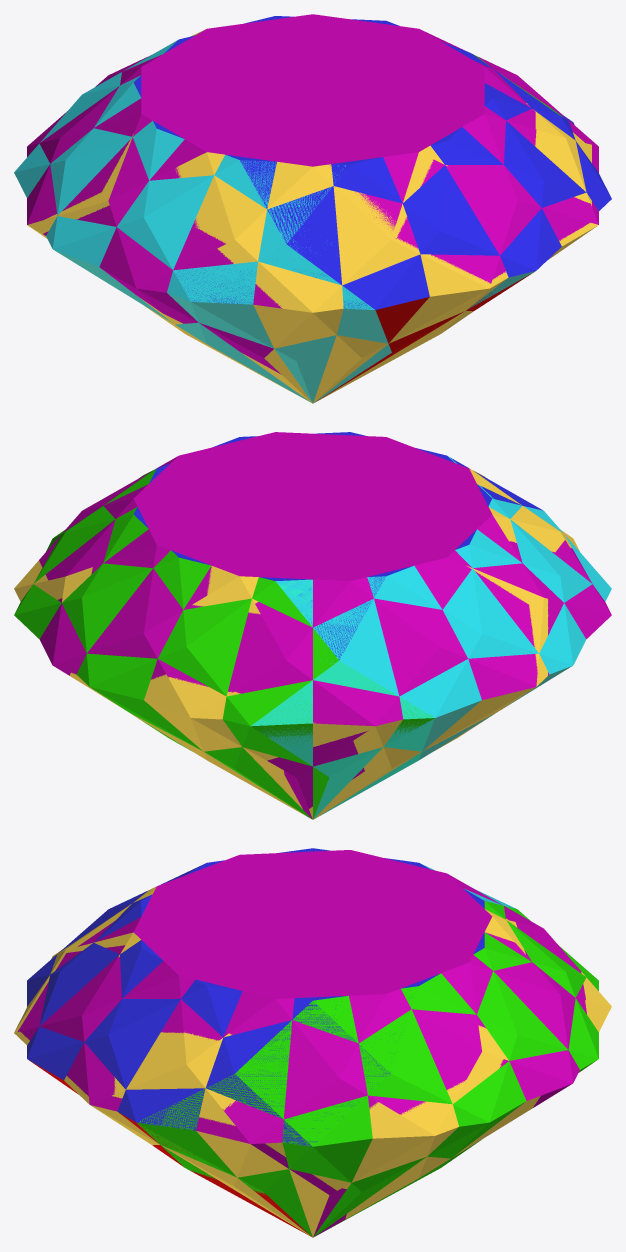
The model's file is Chaos_embler.glb.
3 views of the same model, one above another, from view 1: azimuth 30°, elevation 25°; view 2: azimuth 150°, elevation 25°; view 3: azimuth 270°, elevation 25° (orthographic).
Visible parts, largest first — view 1: Gem.004, Gem.002, Gem.006, Gem.003, Gem.005; view 2: Gem.004, Gem.001, Gem.002, Gem.006, Gem.003; view 3: Gem.004, Gem.001, Gem.003, Gem.006, Gem.005.
Part boxes in pixels (<box>): Gem.004: <box>27,14,598,401</box>; Gem.002: <box>14,39,535,403</box>; Gem.006: <box>27,30,598,403</box>; Gem.003: <box>16,16,611,309</box>; Gem.005: <box>154,271,535,401</box>; Gem.004: <box>14,432,611,819</box>; Gem.001: <box>14,468,434,819</box>; Gem.002: <box>251,456,611,818</box>; Gem.006: <box>14,468,579,819</box>; Gem.003: <box>133,432,610,716</box>; Gem.004: <box>14,850,611,1237</box>; Gem.001: <box>137,901,598,1237</box>; Gem.003: <box>27,848,504,1146</box>; Gem.006: <box>14,886,611,1237</box>; Gem.005: <box>29,1060,311,1236</box>.
Size of the model in its own units: 2 by 1.15 by 1.99.
